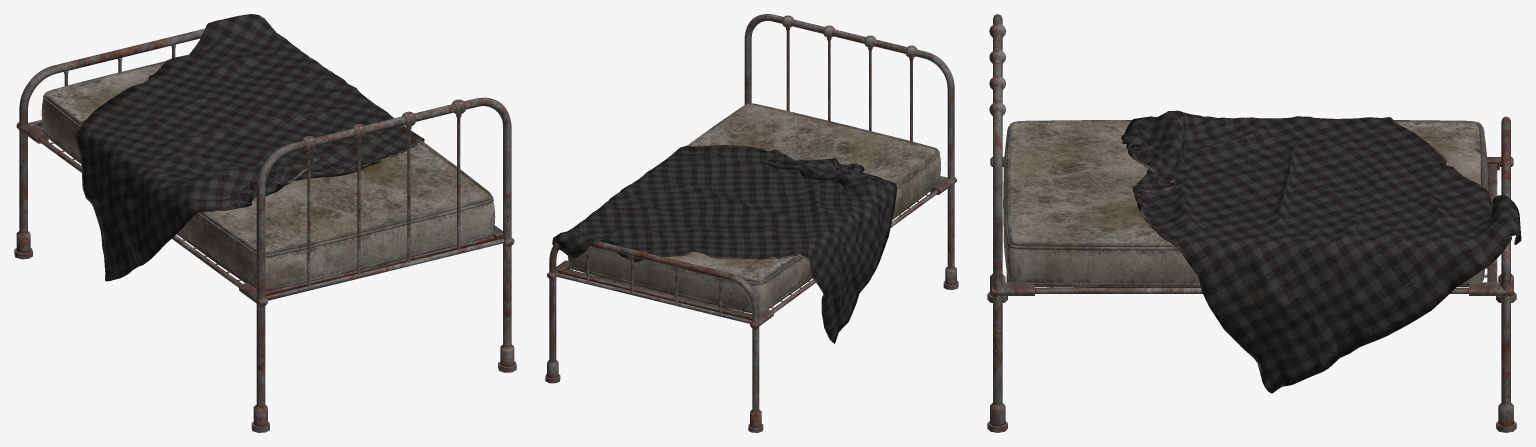
3 views of the same model, side by side, from view 1: azimuth 30°, elevation 25°; view 2: azimuth 150°, elevation 25°; view 3: azimuth 270°, elevation 25° (orthographic). The views are drawn at different scales.
Visible parts, largest first — view 1: blanket, mattress, bed; view 2: blanket, mattress, bed; view 3: blanket, mattress, bed.
Part boxes in pixels (bbox=[...]): blanket: bbox=[75, 14, 424, 281]; mattress: bbox=[41, 61, 495, 291]; bed: bbox=[14, 28, 516, 432]; blanket: bbox=[552, 145, 897, 343]; mattress: bbox=[568, 103, 940, 313]; bed: bbox=[545, 14, 958, 432]; blanket: bbox=[1121, 110, 1521, 393]; mattress: bbox=[1003, 120, 1487, 287]; bed: bbox=[987, 14, 1516, 432].
Size of the model in its own units: 133 by 130 by 210.
3 materials, 3 textured.
